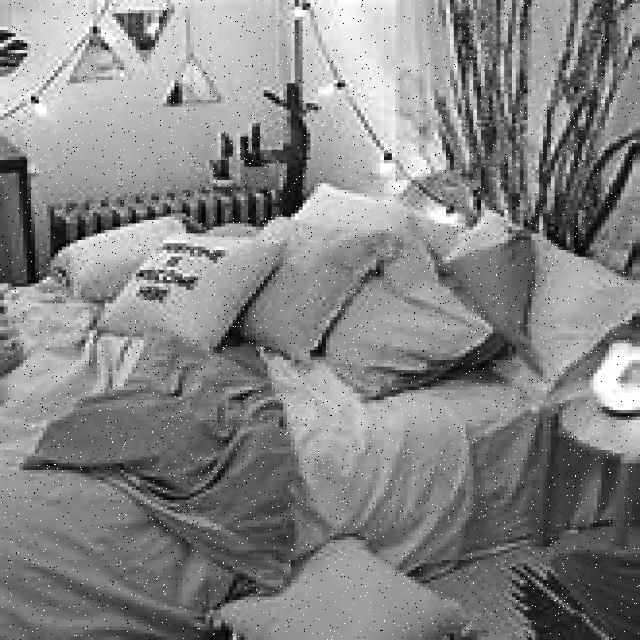bed: (1, 206, 640, 548)
